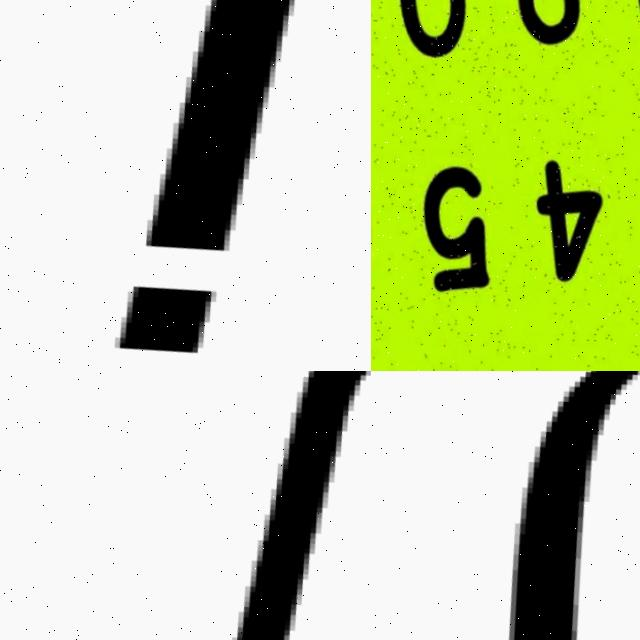0: (433, 371, 640, 640), (371, 0, 505, 112)
4: (496, 137, 634, 321)
5: (378, 146, 524, 346)
6: (371, 154, 408, 353)
8: (583, 0, 640, 92)
9: (474, 0, 613, 114)
J: (60, 0, 371, 371), (126, 371, 371, 640)
